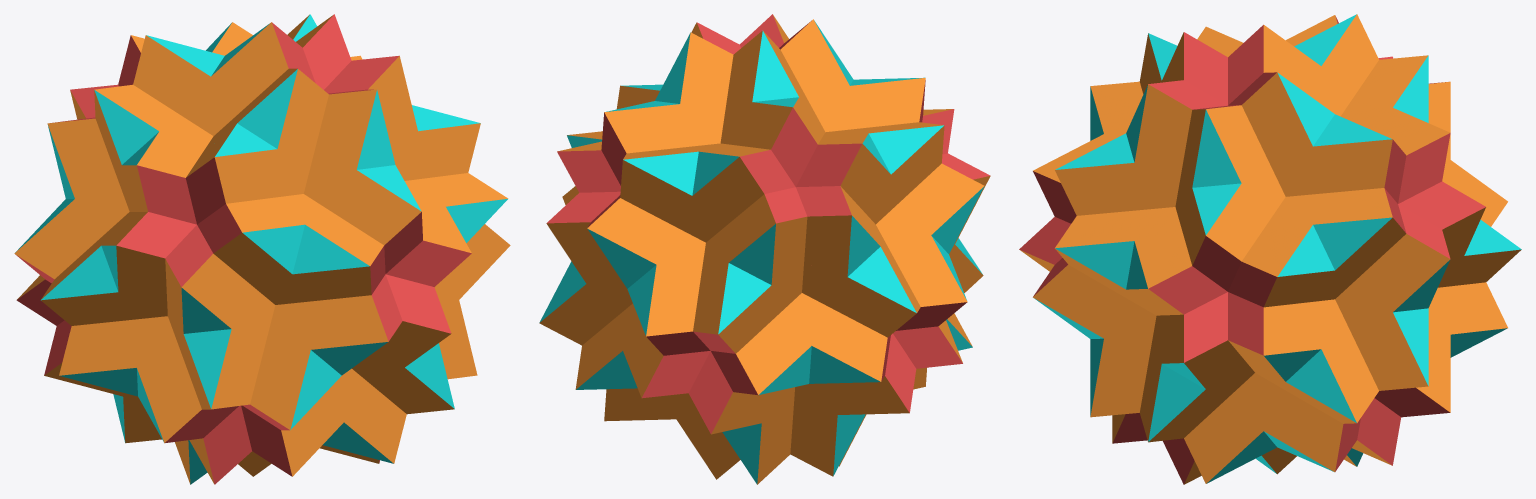
The model's file is great_dodecicosidodecahedron.obj.
3 views of the same model, side by side, from view 1: azimuth 30°, elevation 25°; view 2: azimuth 150°, elevation 25°; view 3: azimuth 270°, elevation 25° (orthographic). The views are drawn at different scales.
Parts seen in each view (by area): view 1: Shape_IndexedFaceSet.002; view 2: Shape_IndexedFaceSet.002; view 3: Shape_IndexedFaceSet.002.
Boxes of the visible parts, <box> form: Shape_IndexedFaceSet.002: <box>14,14,510,484</box>; Shape_IndexedFaceSet.002: <box>539,14,990,484</box>; Shape_IndexedFaceSet.002: <box>1019,14,1521,484</box>.
Size of the model in its own units: 2.79 by 2.79 by 2.79.
